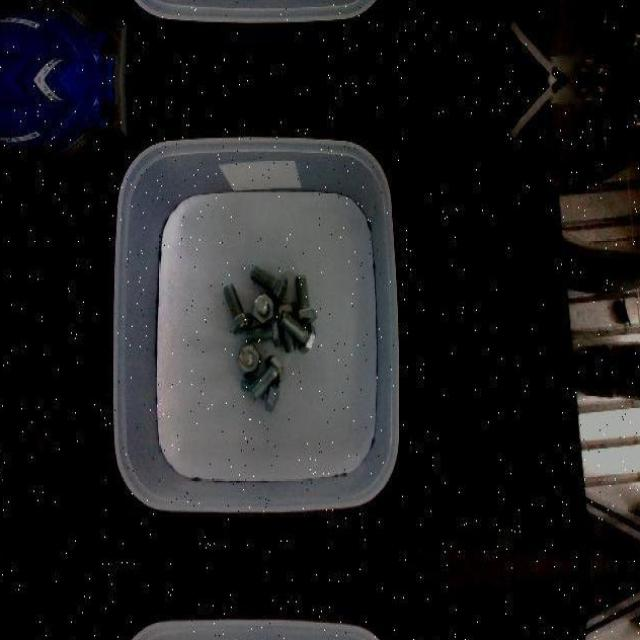screw: (248, 354, 287, 401), (277, 310, 315, 353), (250, 264, 288, 304), (223, 282, 252, 334), (237, 342, 260, 373), (253, 294, 274, 324)
